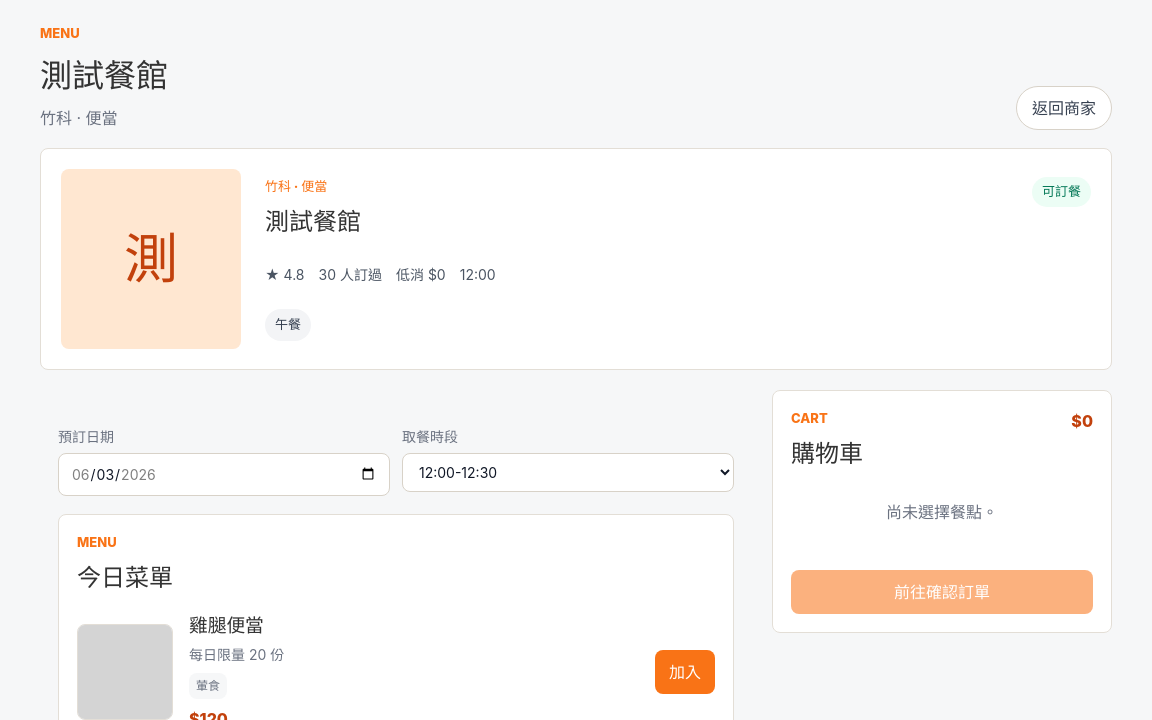
Scenario: MerchantDetailPage › adds an item and updates quantity in cart summary
Click the button with test id "add-menu-item-button" at (685,672), box [655,650,715,694]
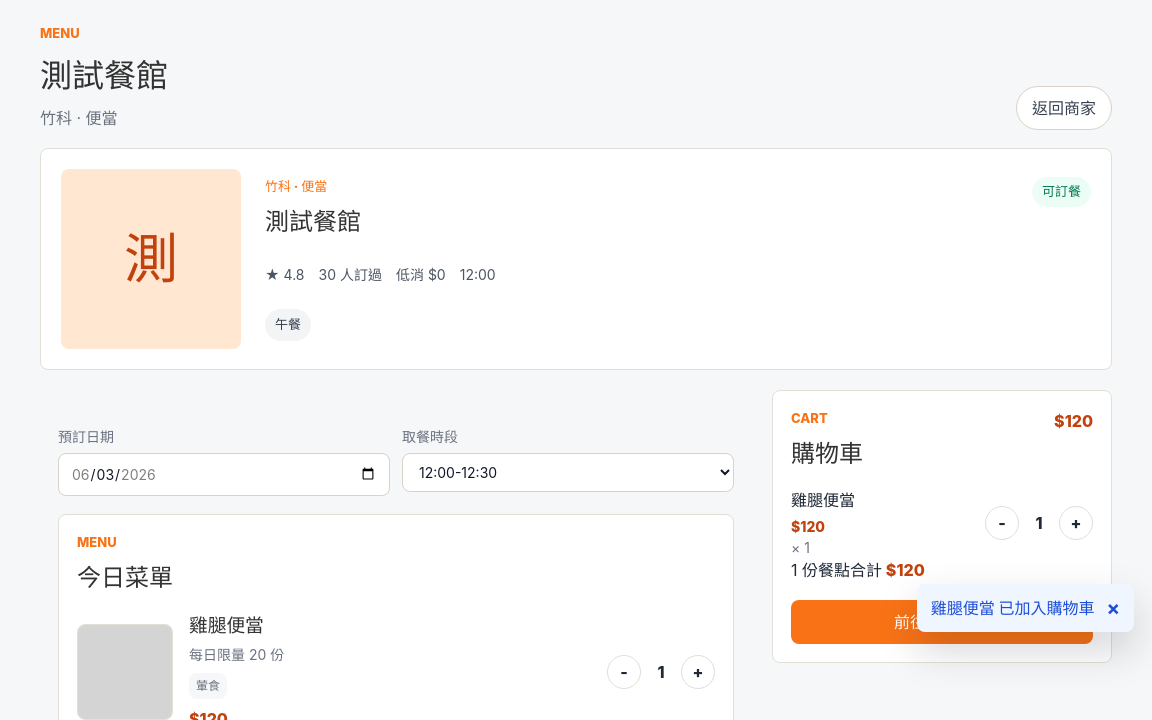
Click the button named "雞腿便當增加" at (698,672), box [681,654,715,688]
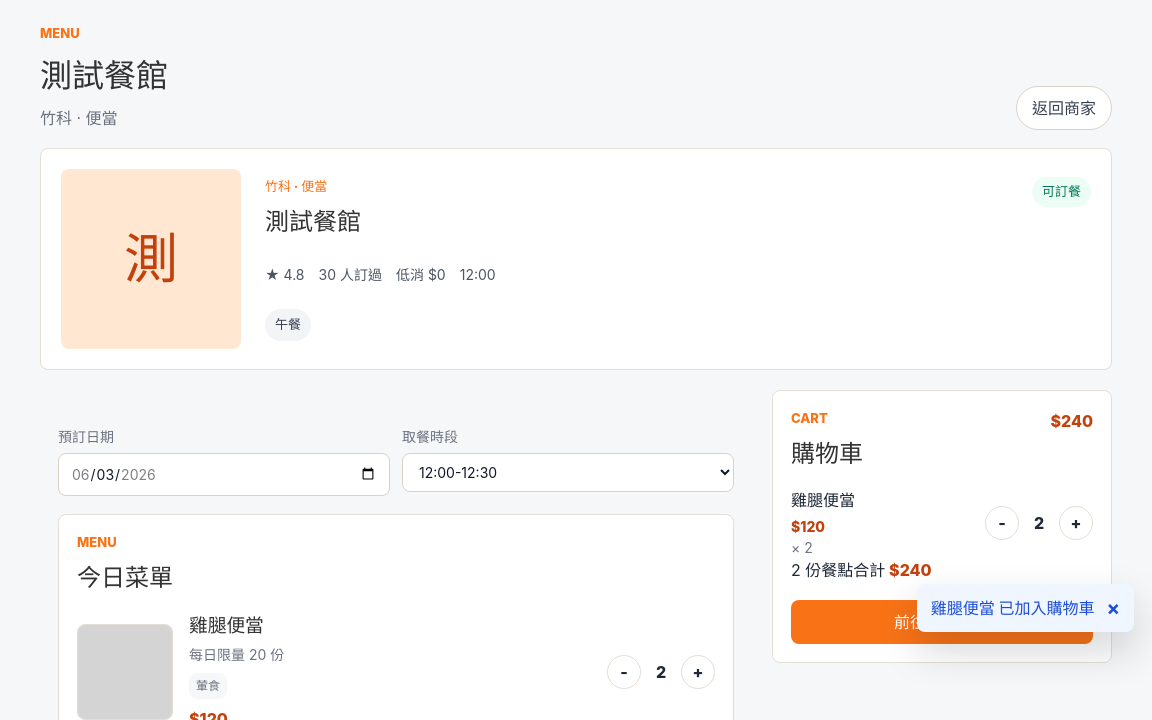
Expected: the element with test id "cart-panel" shows "2 份餐點", [791,560,853,580]
Expected: the element with test id "cart-panel" shows "$240", [1050,410,1093,430]
